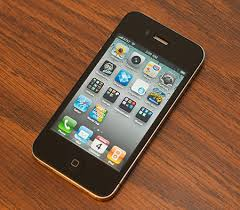iphone: (30, 8, 206, 197)
iphone4: (30, 10, 206, 199)
